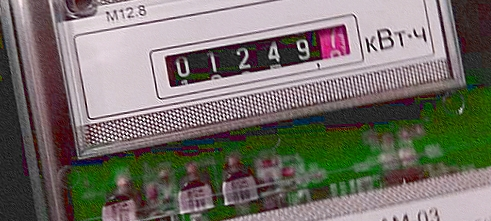0: (170, 50, 191, 77)
1: (202, 47, 219, 73)
2: (232, 43, 254, 70)
4: (264, 35, 283, 63)
7: (323, 24, 340, 49)
9: (293, 33, 312, 59)
screen: (141, 14, 378, 102)
